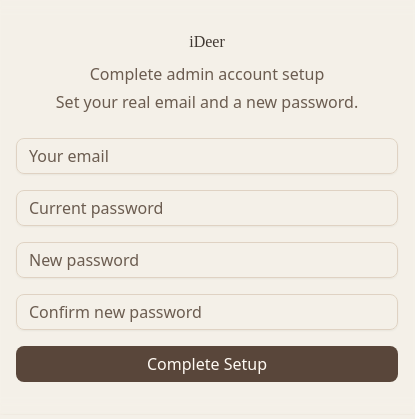
SetupPage › change_password mode shows short password error
expect the password field with placeholder "Current password" is shown: met, box [16,190,398,226]
Type "admin@test.com" into the field with placeholder "Your email". click: {"x": 207, "y": 156}
box: [16,138,398,174]
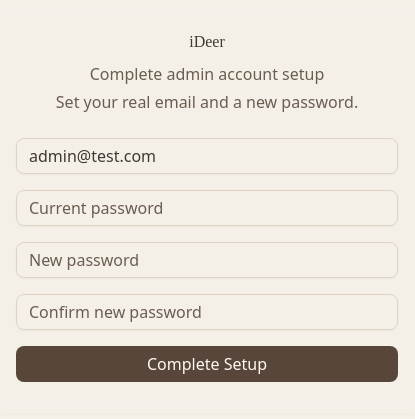
Type "oldpass" into the password field with placeholder "Current password". click: {"x": 207, "y": 208}
box: [16,190,398,226]
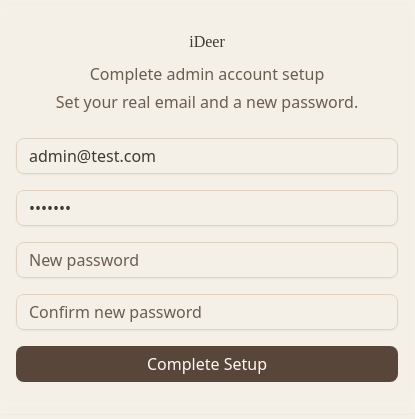
Type "short" into the password field with placeholder "New password". click: {"x": 207, "y": 260}
box: [16,242,398,278]
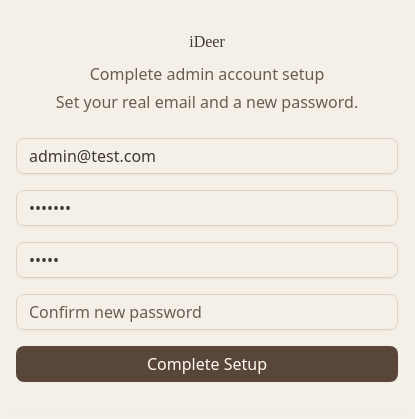
Type "short" into the password field with placeholder "Confirm new password". click: {"x": 207, "y": 312}
box: [16,294,398,330]
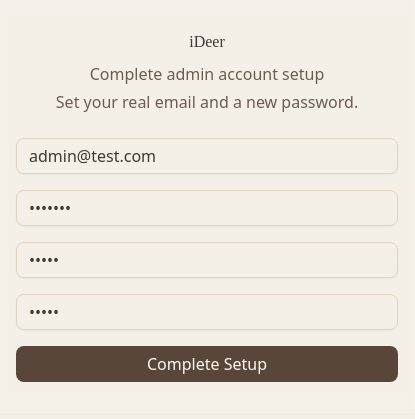
Submit the form with placeholder "Your email", box [16,138,398,382]
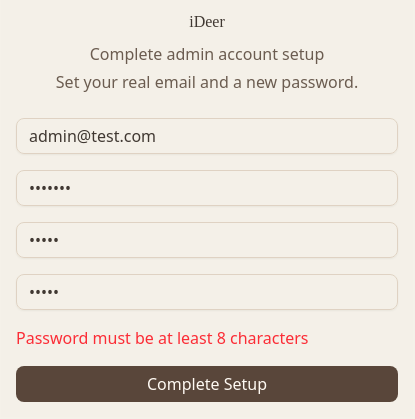
expect the text "Password must be at least 8 characters" is shown: met, box [16,327,308,349]
